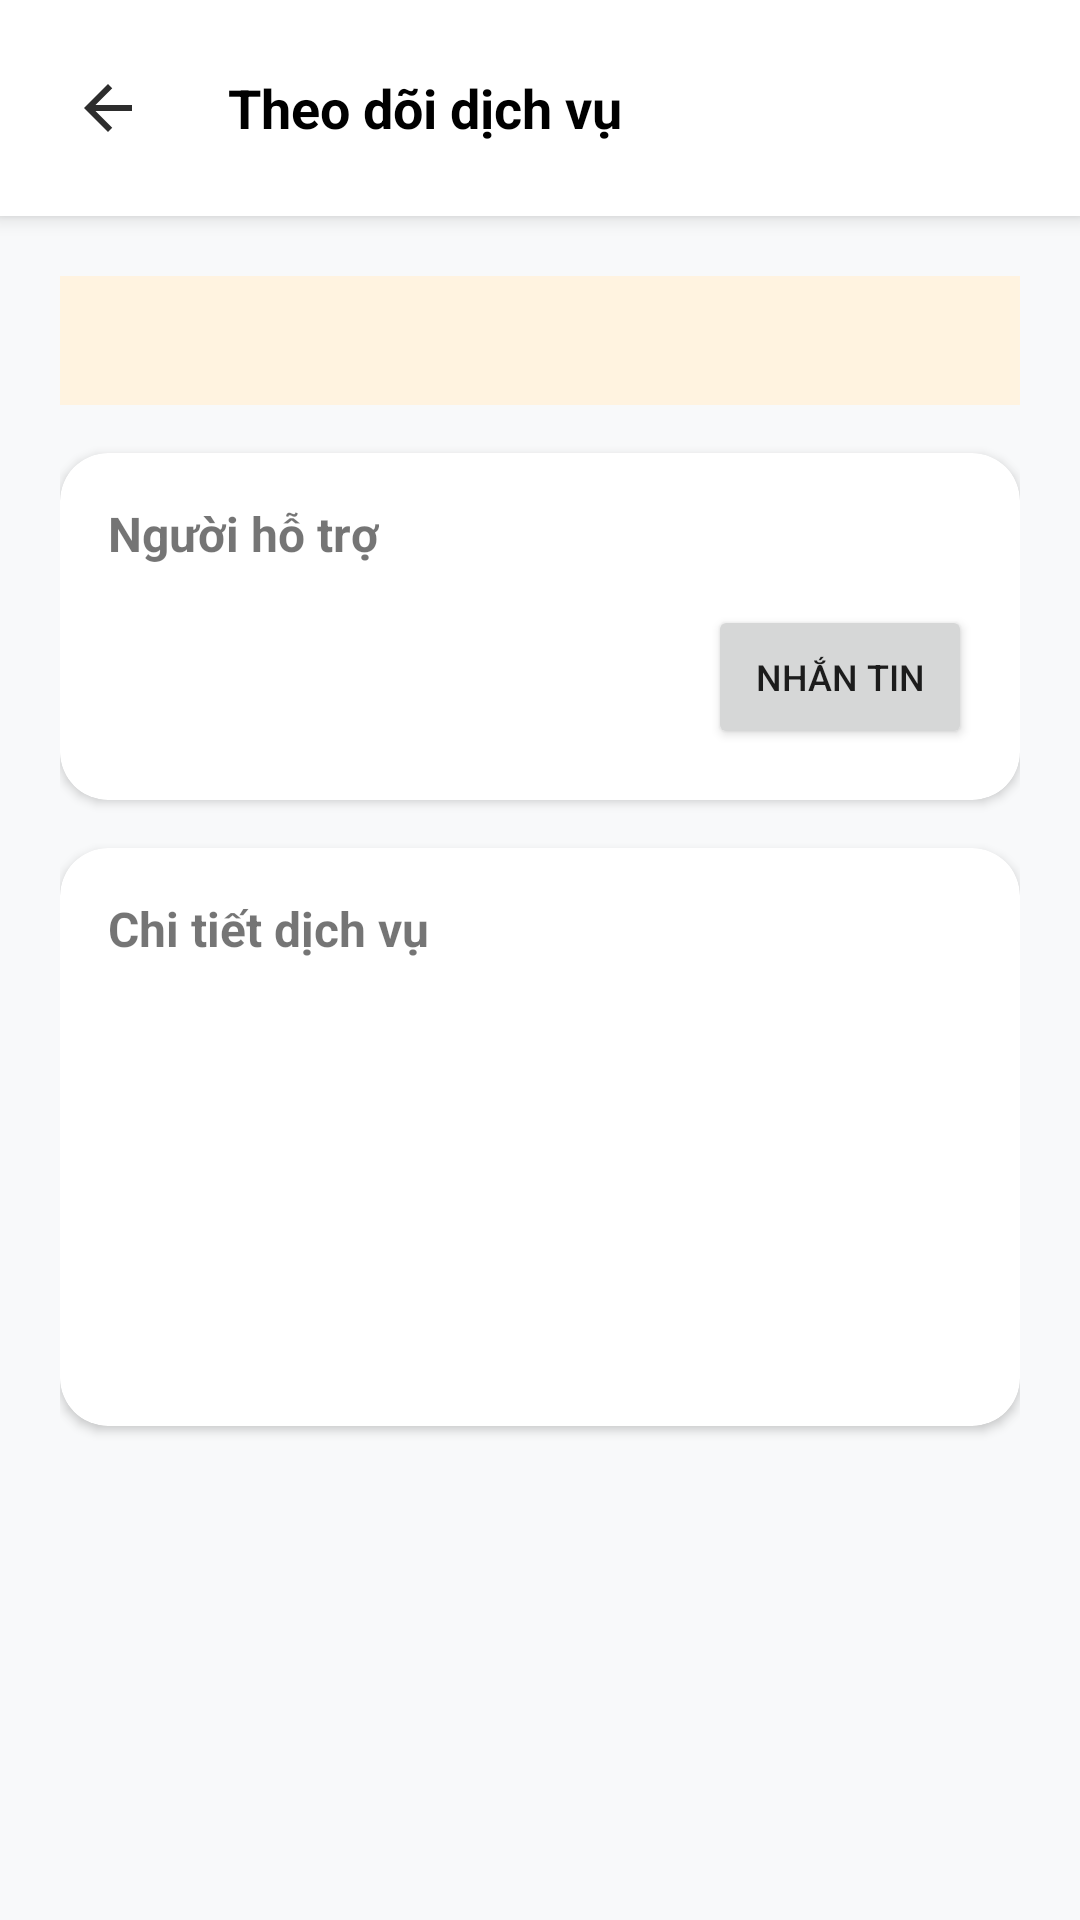

Icons on this 1080px×1920px Android screen, each with the point to tap as [x,y]:
Quay lại: [108,108]
